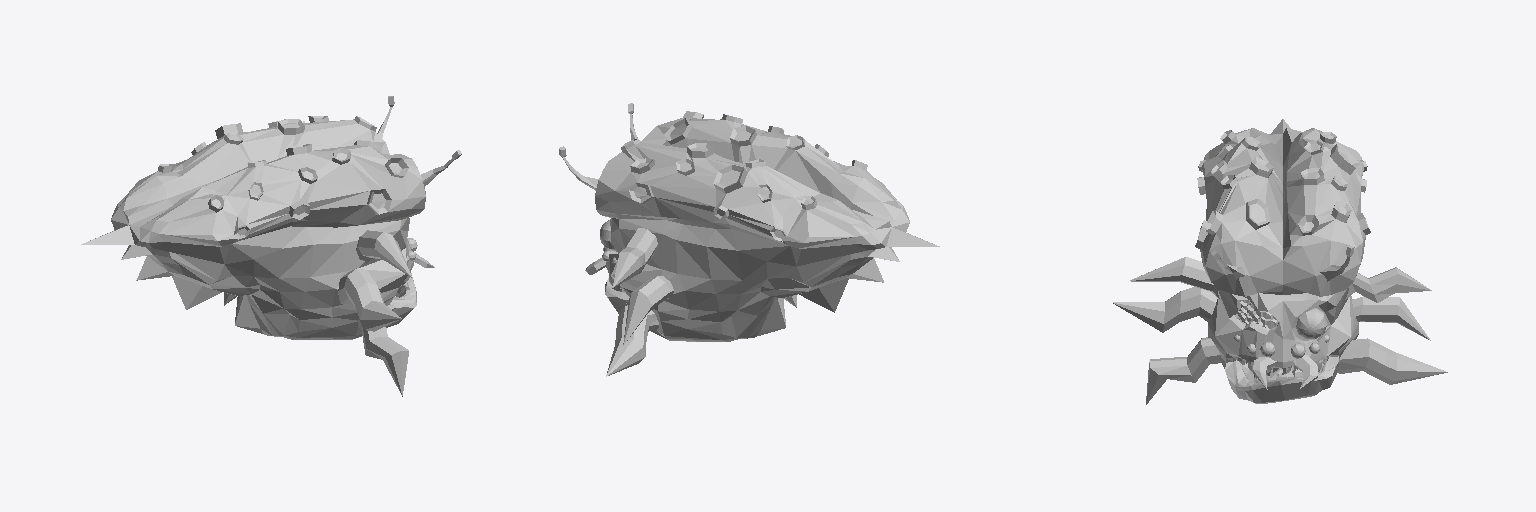
File: Hivemind_4.obj
The picture shows the model from 3 angles: view 1: azimuth 30°, elevation 25°; view 2: azimuth 150°, elevation 25°; view 3: azimuth 270°, elevation 25°; orthographic projection.
Parts seen in each view (by area): view 1: Face_Cube.001; view 2: Face_Cube.001; view 3: Face_Cube.001, Large_Eye_Sphere.
Part boxes in pixels (x1,y1,x2,y2): Face_Cube.001: (81,96,461,396); Face_Cube.001: (559,103,939,376); Face_Cube.001: (1113,119,1447,404); Large_Eye_Sphere: (1296,308,1327,338).
Size of the model in its own units: 5.85 by 3.59 by 4.93.